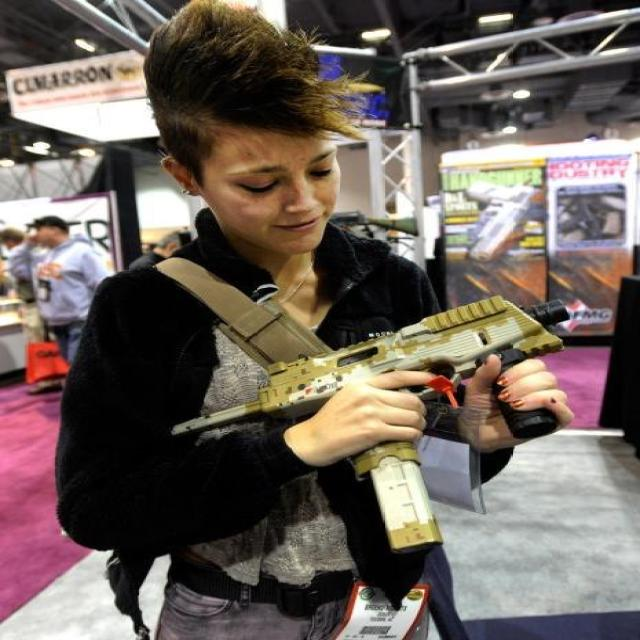firearm: (259, 297, 570, 553)
pistol: (467, 180, 539, 262)
